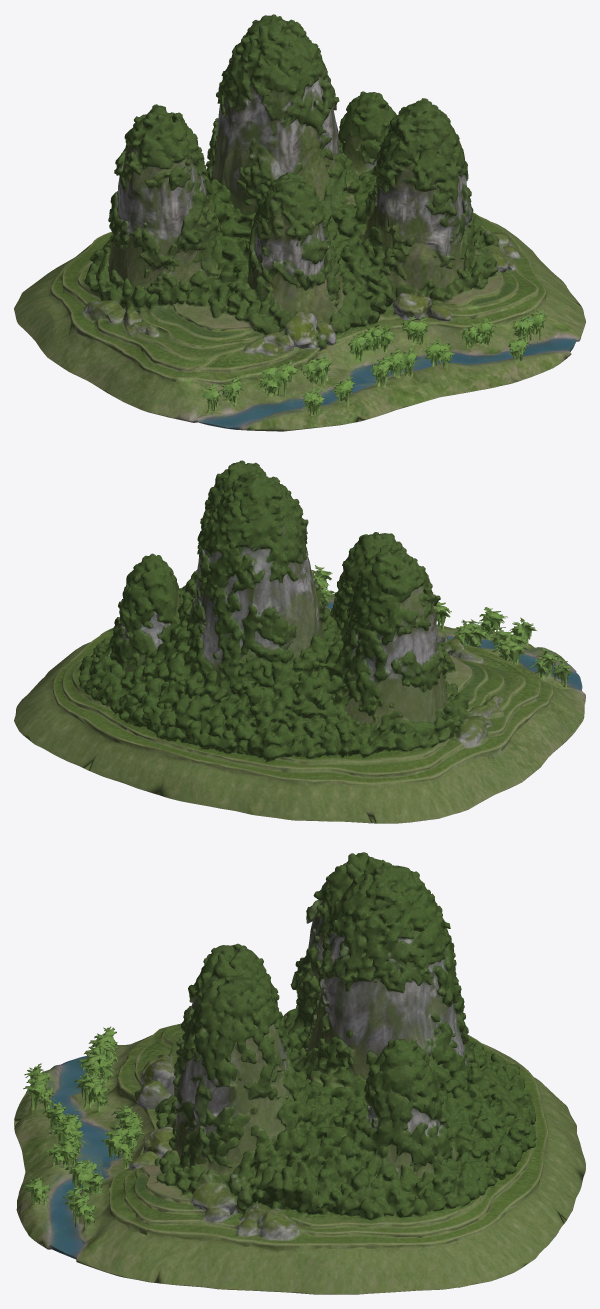
The model's file is av_karst_mid.glb.
3 views of the same model, one above another, from view 1: azimuth 30°, elevation 25°; view 2: azimuth 150°, elevation 25°; view 3: azimuth 270°, elevation 25° (orthographic). The views are drawn at different scales.
Parts seen in each view (by area): view 1: av_karst; view 2: av_karst; view 3: av_karst.
Boxes of the visible parts, x1,y1,x2,y2 form: av_karst: [14, 14, 585, 431]; av_karst: [14, 460, 585, 823]; av_karst: [14, 852, 585, 1294].
Size of the model in its own units: 1.9 by 1.01 by 1.74.
1 material, 1 textured.
